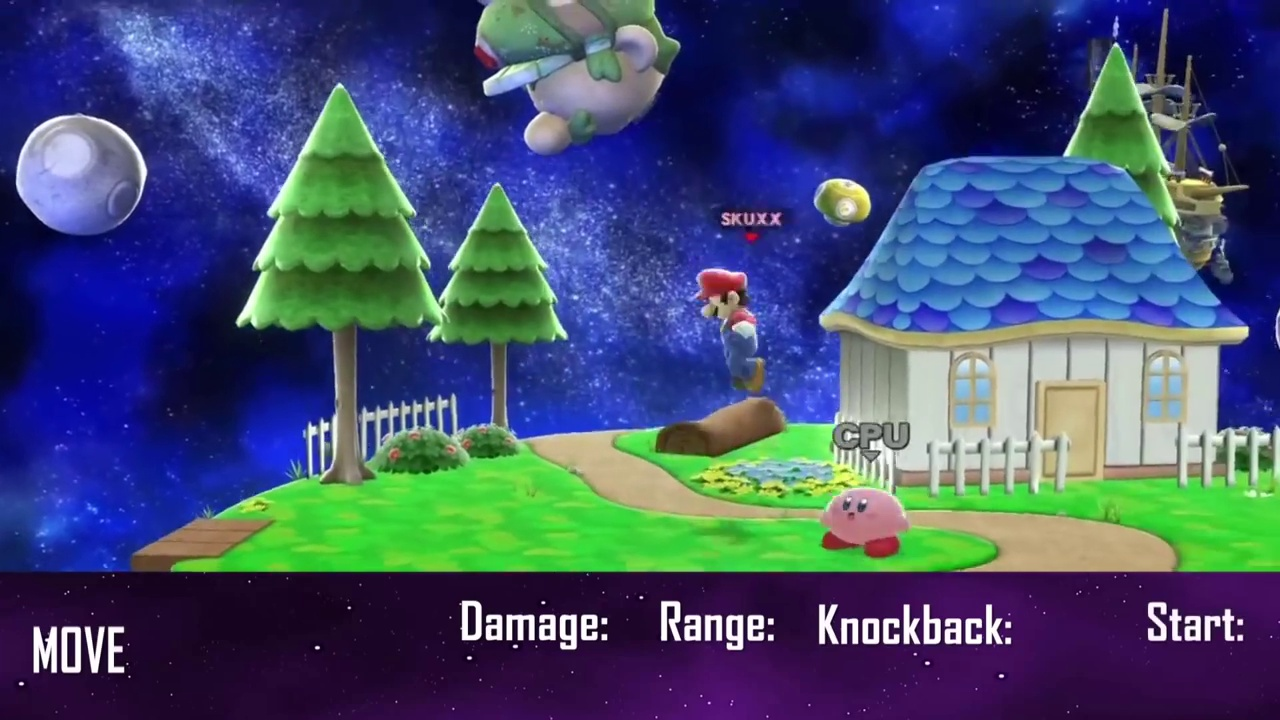Mario: (692, 269, 765, 396)
